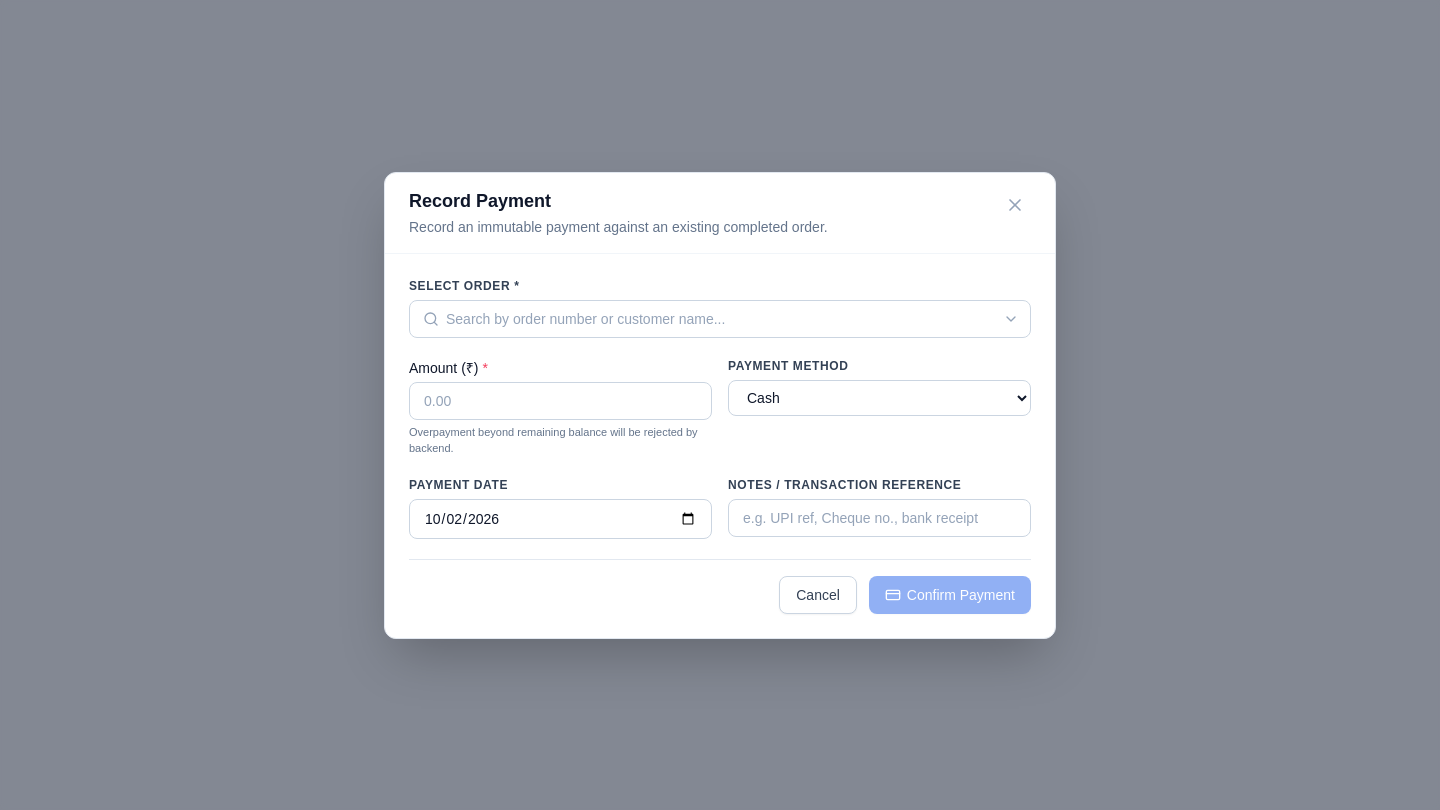
PaymentFormModal - Searchable Order Select UX › filters orders by partial order number
The image size is (1440, 810).
Type "0007" into the dropdown labelled "Select Order *".
click(720, 318); type("0007")  # box x1=409 y1=300 x2=1031 y2=338
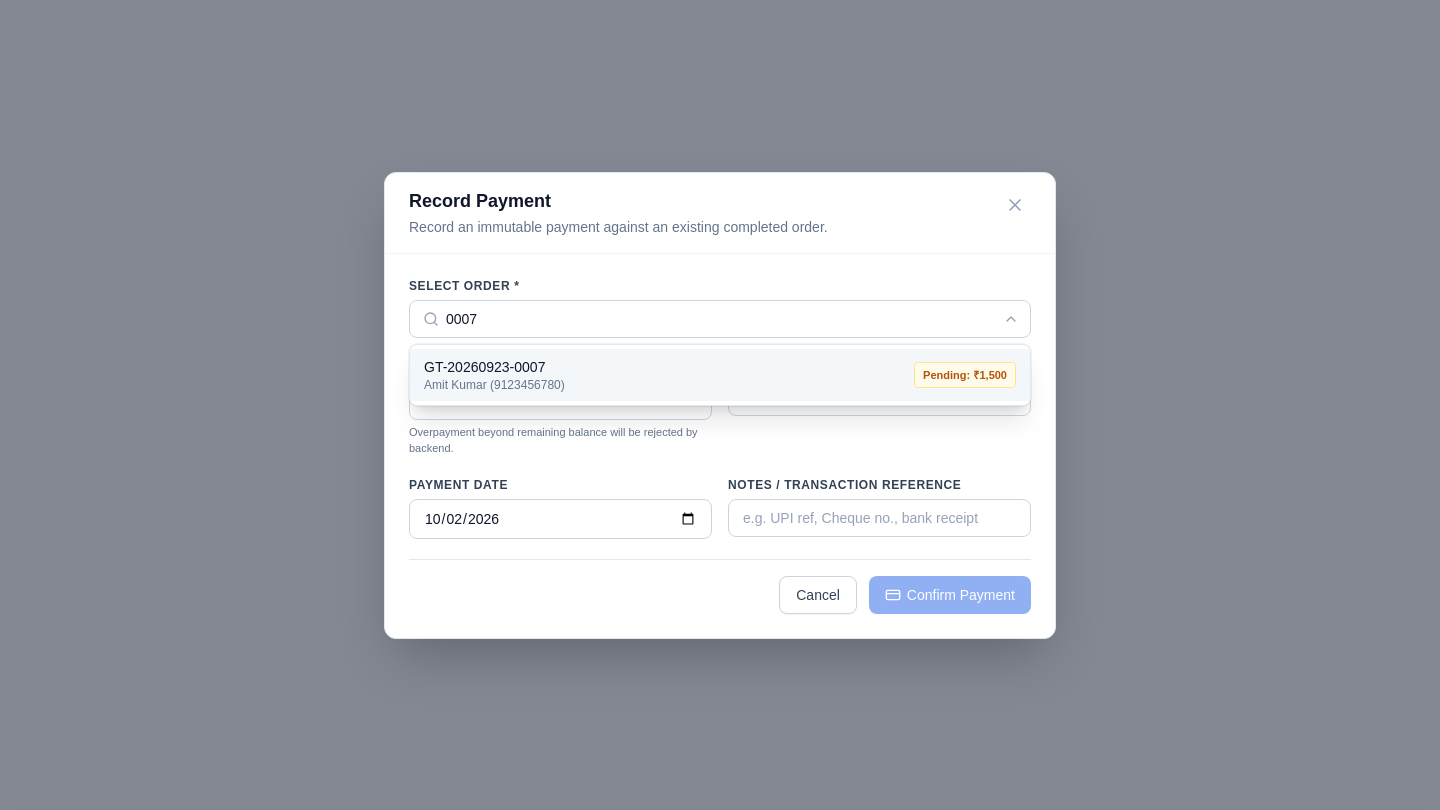
Now the text "GT-20260923-0007" is shown, box x1=424 y1=356 x2=565 y2=376
